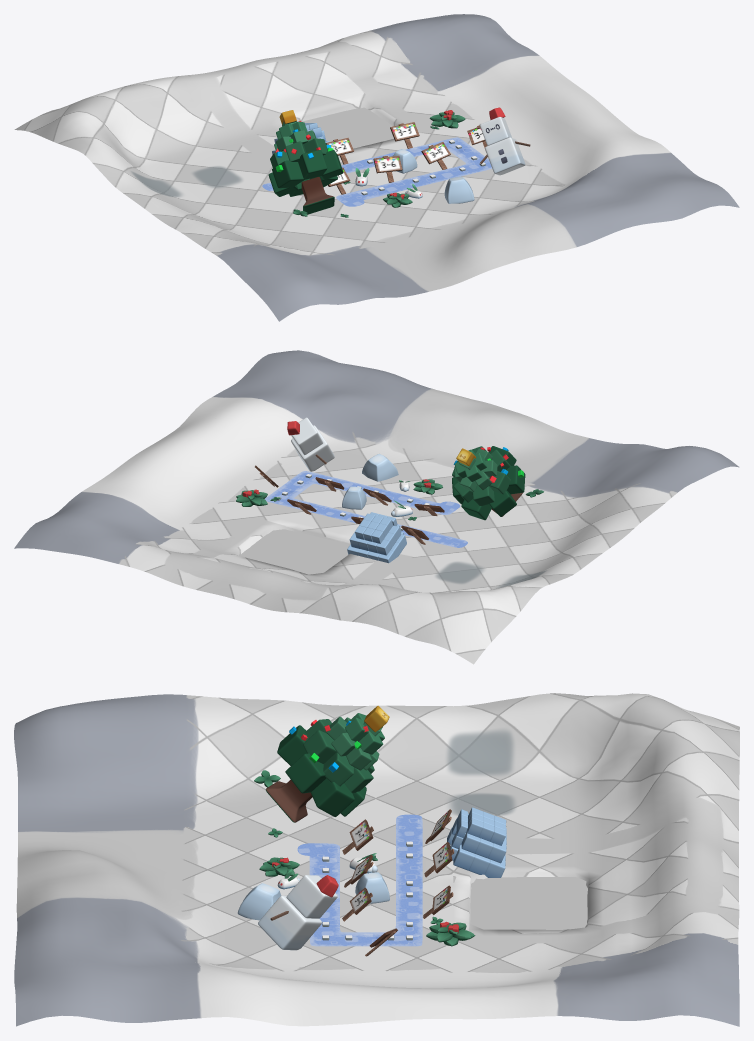
File: stage3_select_all_03.fbx
3 views of the same model, one above another, from view 1: azimuth 30°, elevation 25°; view 2: azimuth 150°, elevation 25°; view 3: azimuth 270°, elevation 25° (orthographic). The views are drawn at different scales.
Visible parts, largest first — view 1: ground, road2, ike1, pCube1, parts08, snow01, parts05, parts06, pCube2; view 2: ground, ike1, road2, snow01, pCube1, pCube2; view 3: ground, road2, ike1, pCube1, parts01 (×2), parts02 (×2), pCube2, parts08, snow01, parts06, snow02.
Part boxes in pixels (box(x1,y1,x2,y2)): ground: box(14, 14, 739, 321); road2: box(262, 137, 492, 206); ike1: box(301, 107, 393, 148); pCube1: box(485, 137, 525, 175); parts08: box(301, 177, 334, 214); snow01: box(444, 176, 474, 203); parts05: box(272, 160, 304, 188); parts06: box(298, 150, 327, 179); pCube2: box(480, 117, 511, 145); ground: box(14, 350, 739, 664); ike1: box(240, 529, 349, 574); road2: box(265, 471, 467, 547); snow01: box(362, 454, 398, 481); pCube1: box(291, 425, 334, 471); pCube2: box(291, 417, 323, 455); ground: box(14, 693, 739, 1026); road2: box(297, 814, 422, 946); ike1: box(453, 876, 587, 929); pCube1: box(258, 895, 321, 950); parts01 (×2): box(285, 730, 336, 793); parts02 (×2): box(310, 752, 354, 816); pCube2: box(286, 875, 337, 918); parts08: box(265, 779, 312, 822); snow01: box(237, 883, 281, 920); parts06: box(277, 725, 308, 765); snow02: box(355, 872, 389, 903).
Size of the model in its own units: 29.31 by 6.49 by 29.28.
